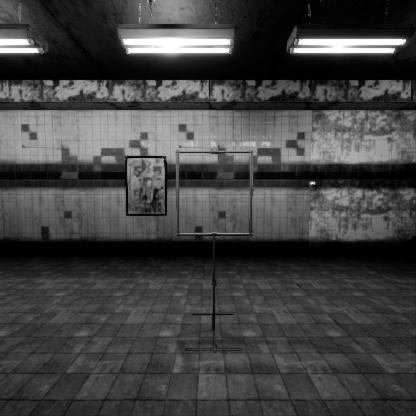gate: (176, 179, 260, 265)
